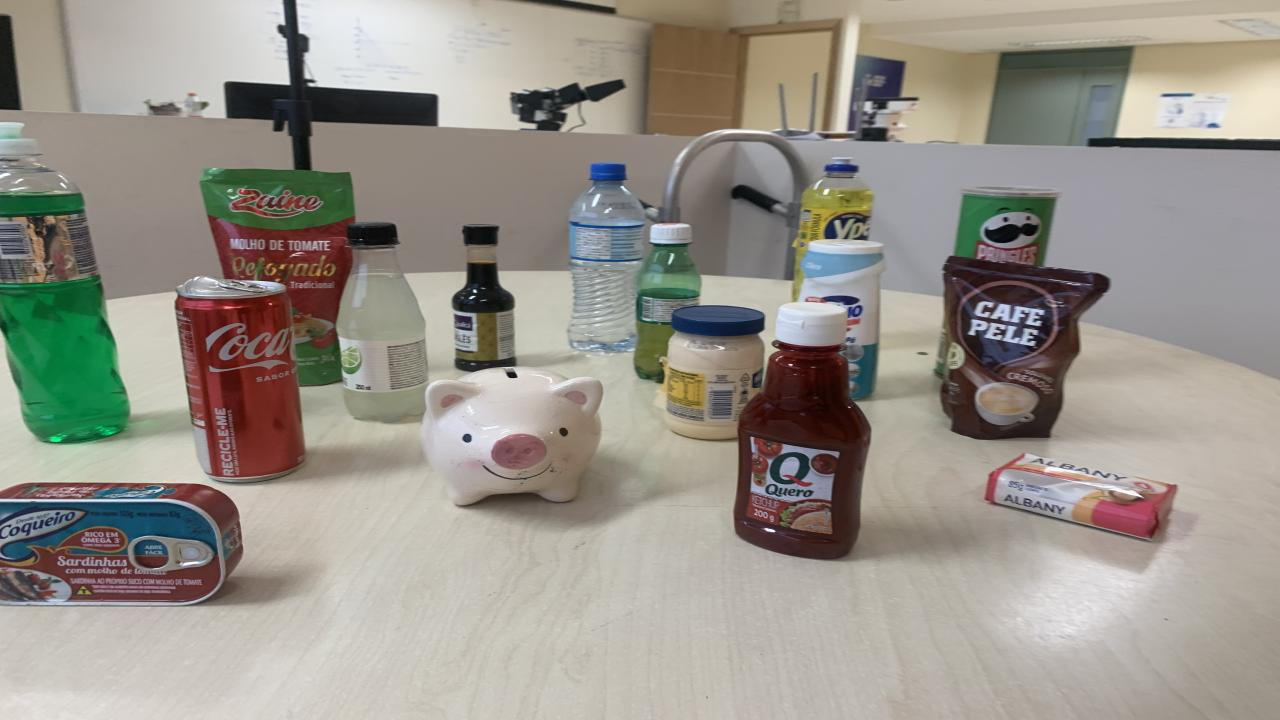Cleaner-Cleanup_Items: (798, 240, 885, 398)
Coffee-Pantry_Items: (940, 257, 1110, 439)
Coke-Drinks: (175, 278, 305, 482)
Detergent-Cleanup_Items: (0, 122, 130, 442), (792, 158, 872, 300)
English_Sauce-Pantry_Items: (452, 225, 515, 371)
Guarana-Drinks: (635, 223, 702, 382)
Ketchup-Pantry_Items: (735, 302, 870, 559)
Mayonnaise-Pantry_Items: (662, 306, 765, 439)
Pig_Safe-Miscellaneous: (420, 368, 602, 504)
Pringles-Snacks: (955, 188, 1060, 264)
Soap-Cleanup_Items: (985, 454, 1178, 538)
Soda-Drinks: (338, 223, 428, 422), (200, 169, 355, 231)
Tomato_Sauce-Pantry_Items: (200, 169, 355, 386)
Tuna_Can-Pantry_Items: (0, 484, 242, 604)
Water_Bottle-Drinks: (568, 163, 645, 352)
